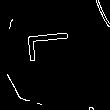L_E: (28, 37, 82, 73)
